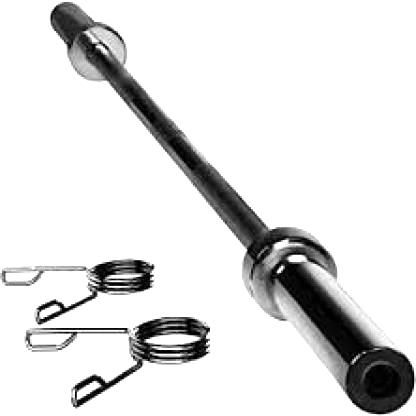Barbell: (338, 333, 412, 416)
